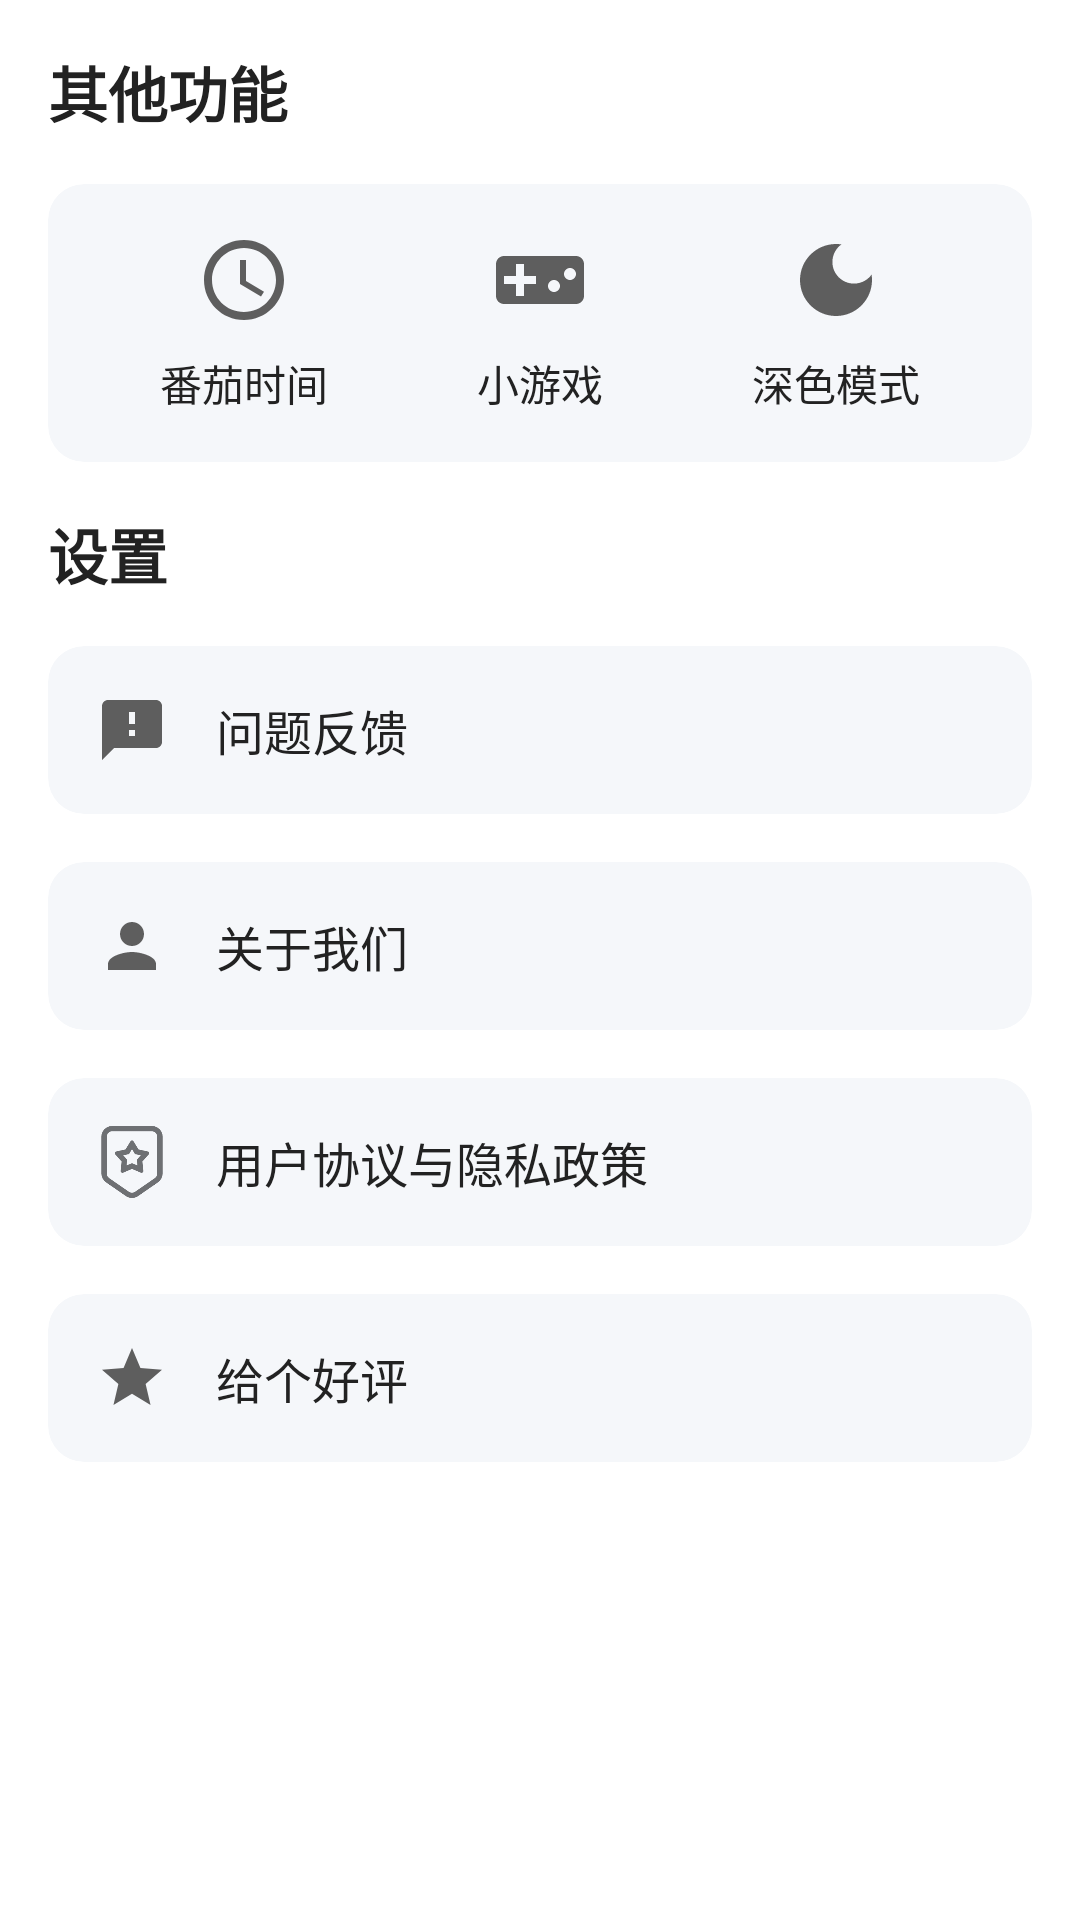

Screen size 1080w x 1920h. Icon name, then its center in pixels as (x,y):
about us: (132,946)
feedback: (132,730)
game: (540,280)
mode: (836,280)
rate: (132,1376)
timer: (244,280)
yishiyuzhengce: (132,1162)
